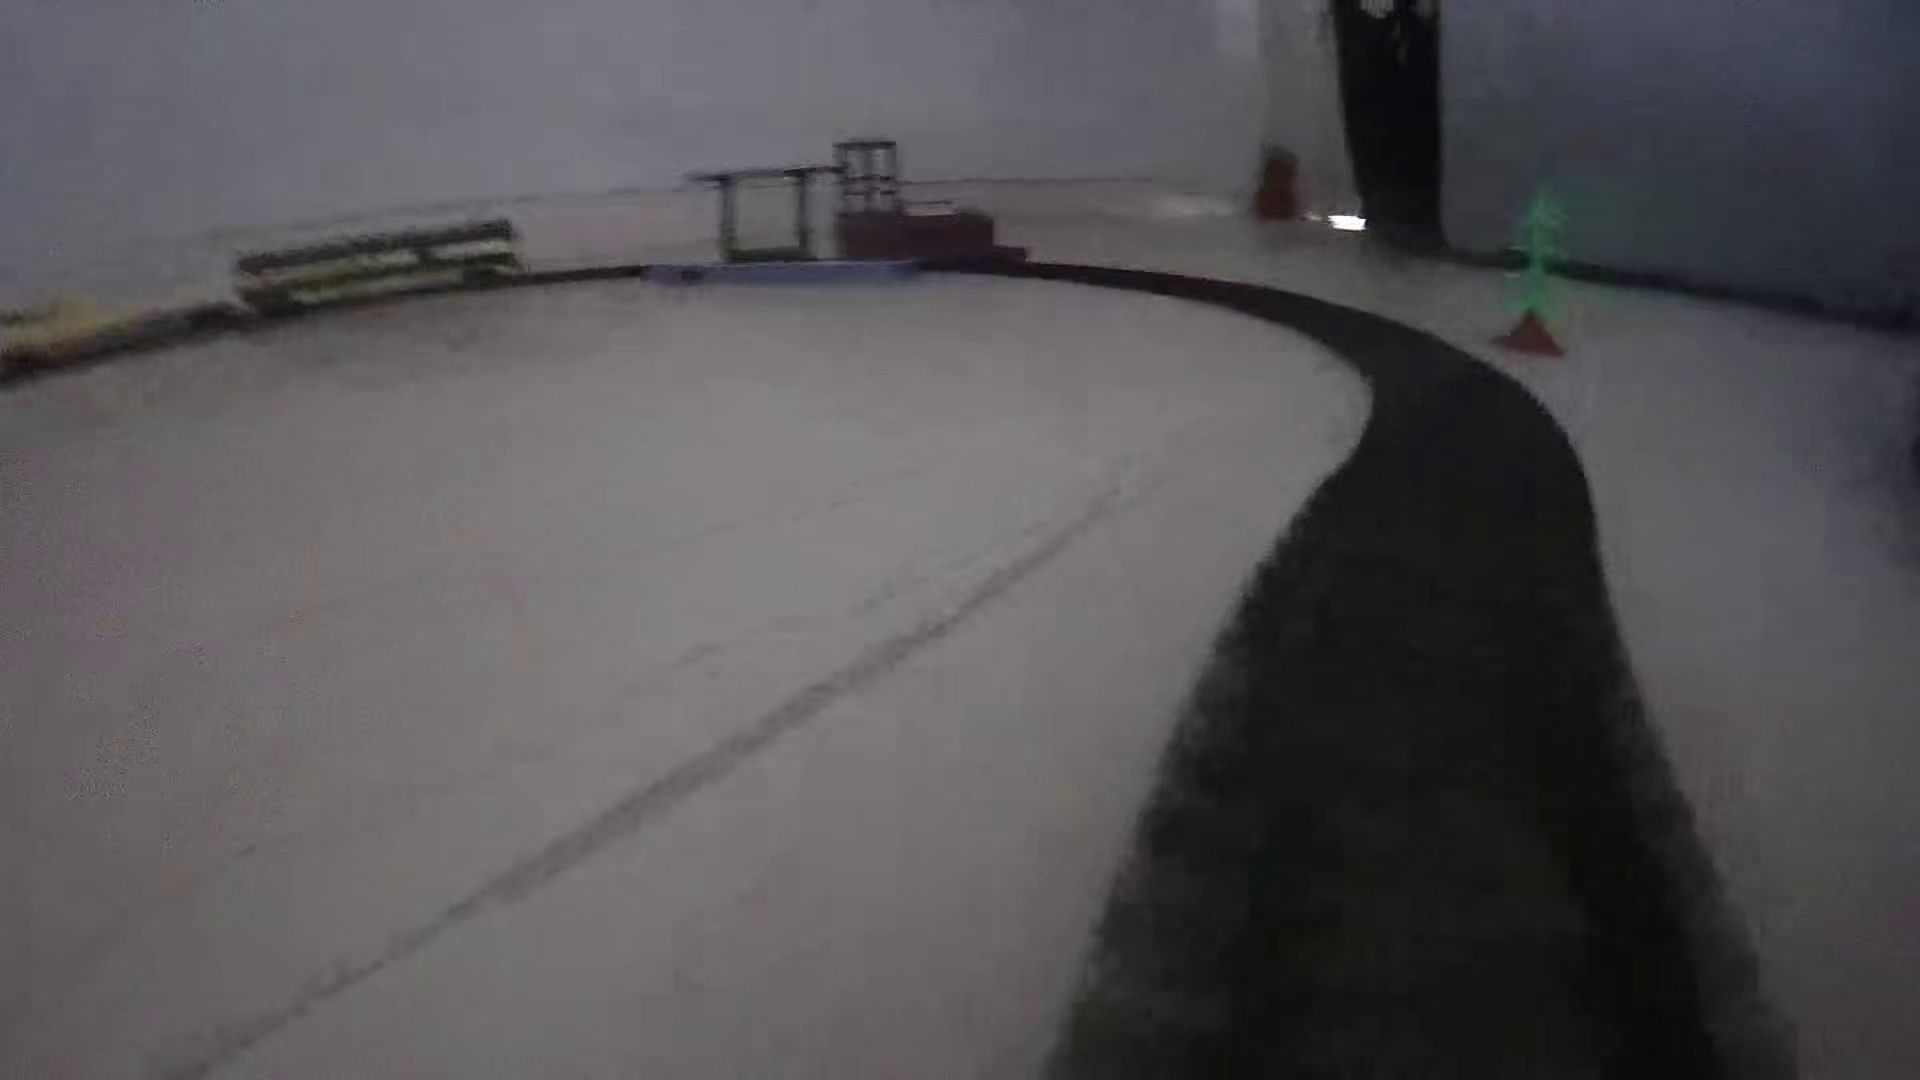tree: (1494, 167, 1575, 361)
